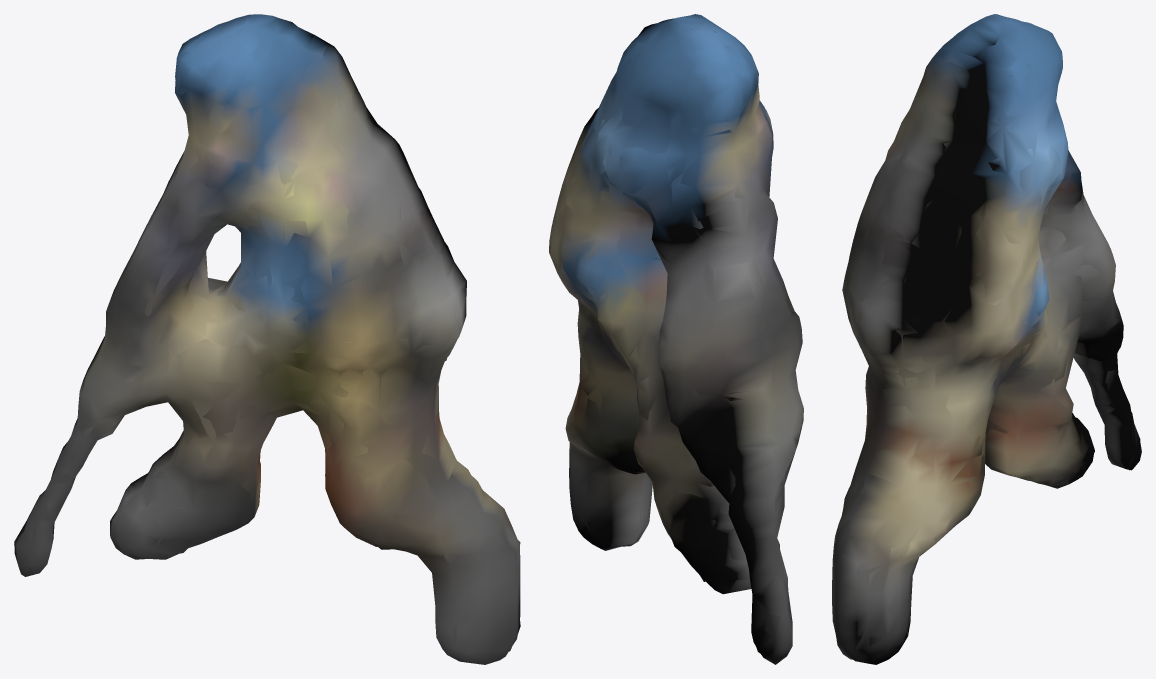
The model's file is sniper.glb.
The picture shows the model from 3 angles, left to right: view 1: azimuth 30°, elevation 25°; view 2: azimuth 150°, elevation 25°; view 3: azimuth 270°, elevation 25°; orthographic projection. The views are drawn at different scales.
Parts seen in each view (by area): view 1: sniper; view 2: sniper; view 3: sniper.
Boxes of the visible parts, <box> form: sniper: <box>14,14,520,664</box>; sniper: <box>549,14,803,664</box>; sniper: <box>832,14,1141,664</box>.
Size of the model in its own units: 1.34 by 2.23 by 1.09.
